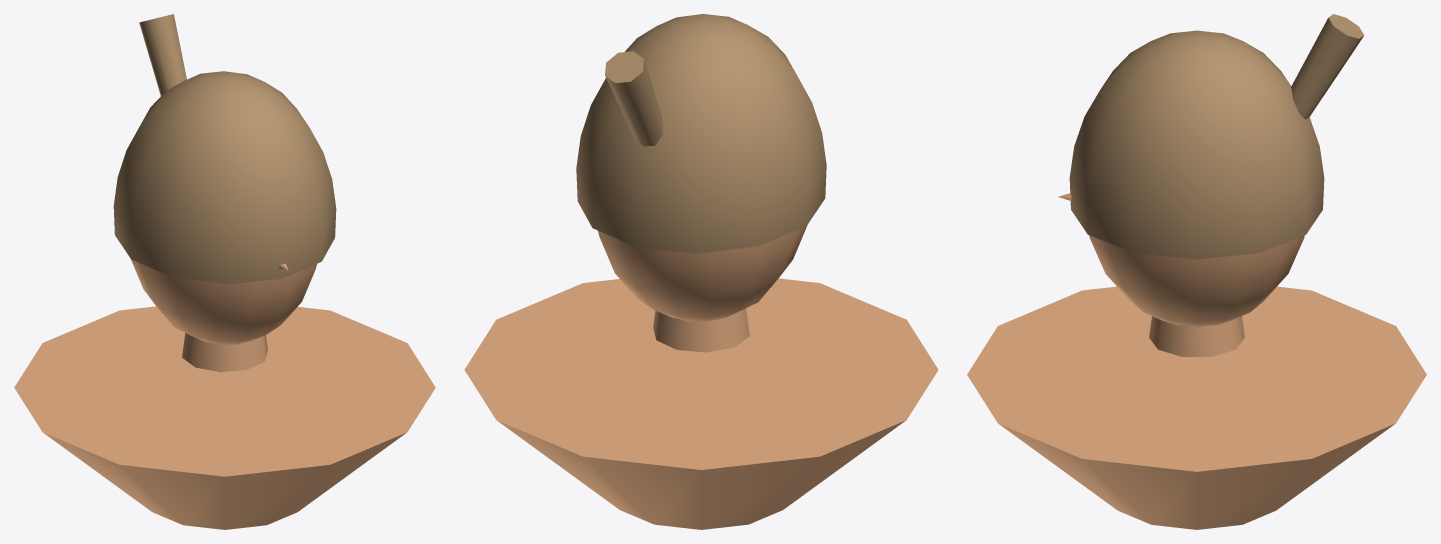
Rendered from raw_003.glb.
3 views of the same model, side by side, from view 1: azimuth 30°, elevation 25°; view 2: azimuth 150°, elevation 25°; view 3: azimuth 270°, elevation 25° (orthographic). The views are drawn at different scales.
Bounding box in the file's own units: 2.01 × 2.29 × 2.01.
